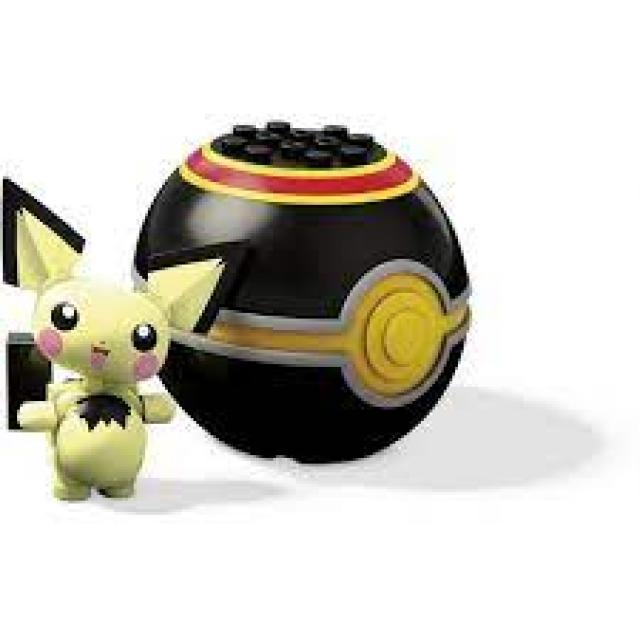pichu: (1, 181, 244, 512)
